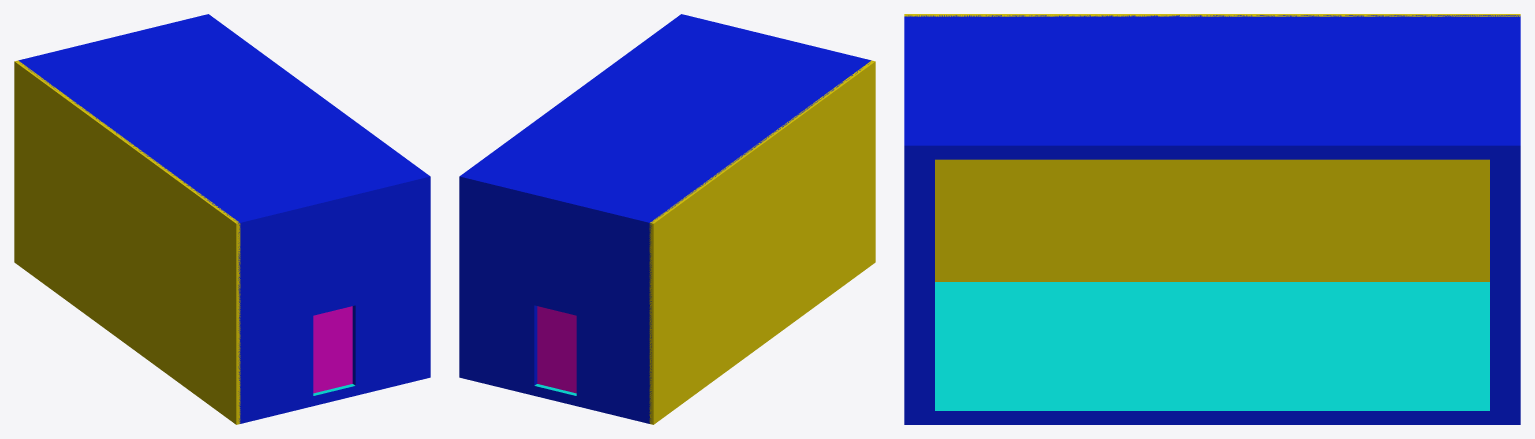
Rendered from Room.fbx.
3 renders of one model, left to right at view 1: azimuth 30°, elevation 25°; view 2: azimuth 150°, elevation 25°; view 3: azimuth 270°, elevation 25°, orthographic. The views are drawn at different scales.
Visible parts, largest first — view 1: Room, Door L; view 2: Room, Door R; view 3: Room.
Part boxes in pixels (x1,y1,x2,y2): Room: (14,14,430,424); Door L: (313,306,352,393); Room: (459,14,875,424); Door R: (537,306,576,393); Room: (904,14,1520,424).
Bounding box in the file's own units: 202 × 200 × 400.
